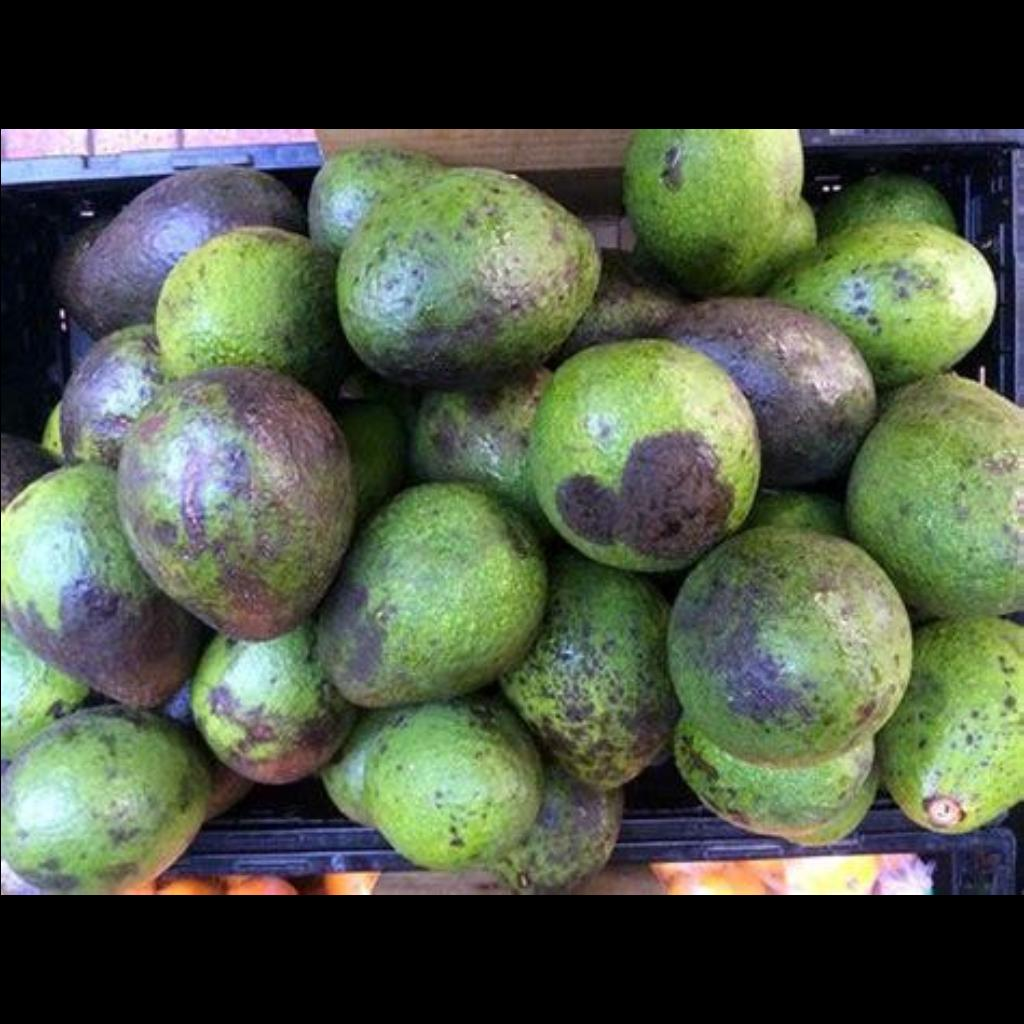Anthracnose: (97, 379, 365, 625), (532, 408, 740, 570), (498, 618, 646, 764), (660, 192, 780, 262)
